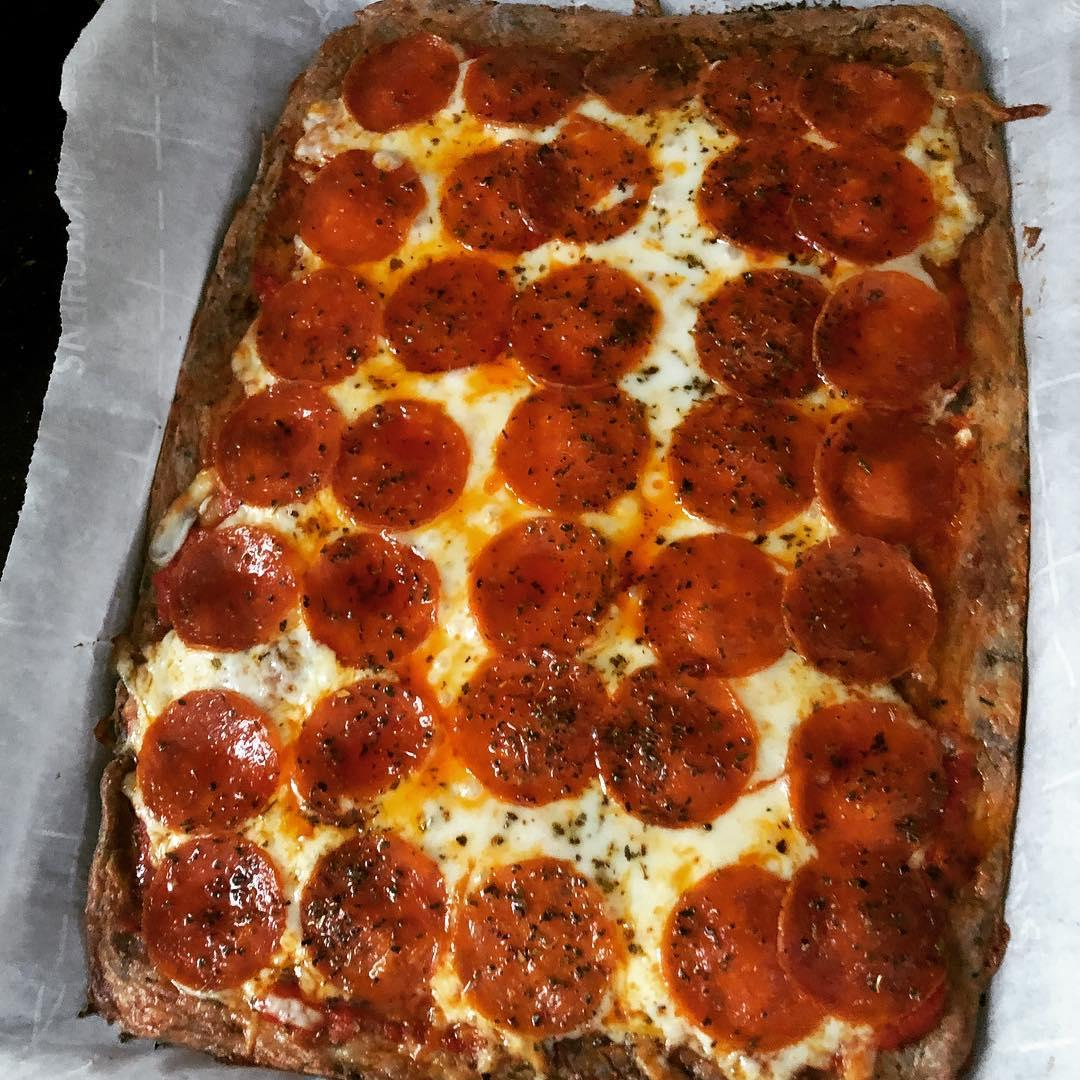Pepperoni: (785, 849, 957, 1033), (657, 867, 828, 1048), (453, 857, 617, 1031), (304, 831, 450, 1011), (599, 663, 758, 828), (791, 701, 950, 856), (781, 531, 936, 681), (465, 521, 629, 654), (457, 657, 610, 794), (815, 409, 965, 548), (817, 271, 964, 408), (673, 395, 824, 526), (141, 841, 278, 984), (497, 389, 653, 513), (647, 535, 793, 666), (695, 269, 849, 392), (137, 689, 270, 829), (293, 677, 428, 814), (161, 521, 308, 646), (507, 263, 660, 381), (335, 401, 466, 526), (305, 537, 436, 660), (527, 117, 653, 244), (213, 381, 340, 506), (387, 253, 513, 376), (699, 135, 828, 254), (795, 145, 934, 254), (299, 149, 424, 261), (257, 269, 386, 376), (441, 139, 562, 246), (801, 53, 924, 146), (345, 35, 465, 129), (697, 49, 817, 135), (587, 37, 706, 111), (467, 49, 588, 121)
Pizza: (97, 0, 1025, 1080)
